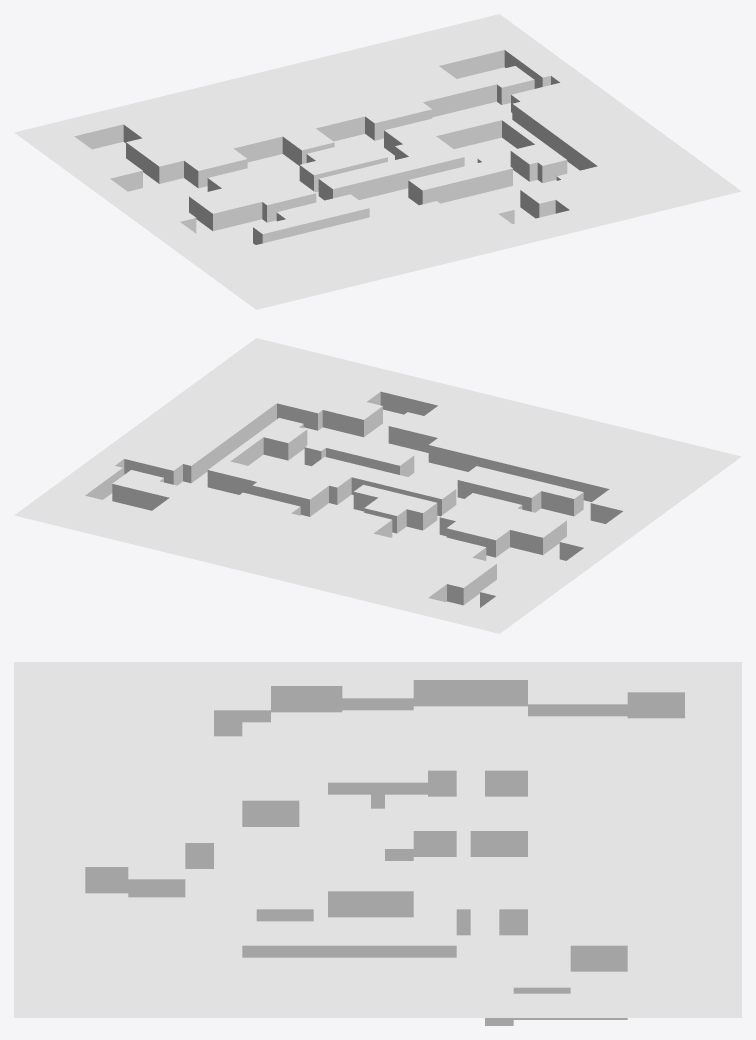
File: Map.obj
3 renders of one model, top to bottom at view 1: azimuth 30°, elevation 25°; view 2: azimuth 150°, elevation 25°; view 3: azimuth 270°, elevation 25°, orthographic. The views are drawn at different scales.
Visible parts, largest first — view 1: Plane; view 2: Plane; view 3: Plane.
Part boxes in pixels (box(x1,y1,x2,y2)): Plane: box(14, 14, 741, 309); Plane: box(14, 338, 741, 633); Plane: box(14, 662, 741, 1025).
Bounding box in the file's own units: 58.42 × 2 × 50.5.
